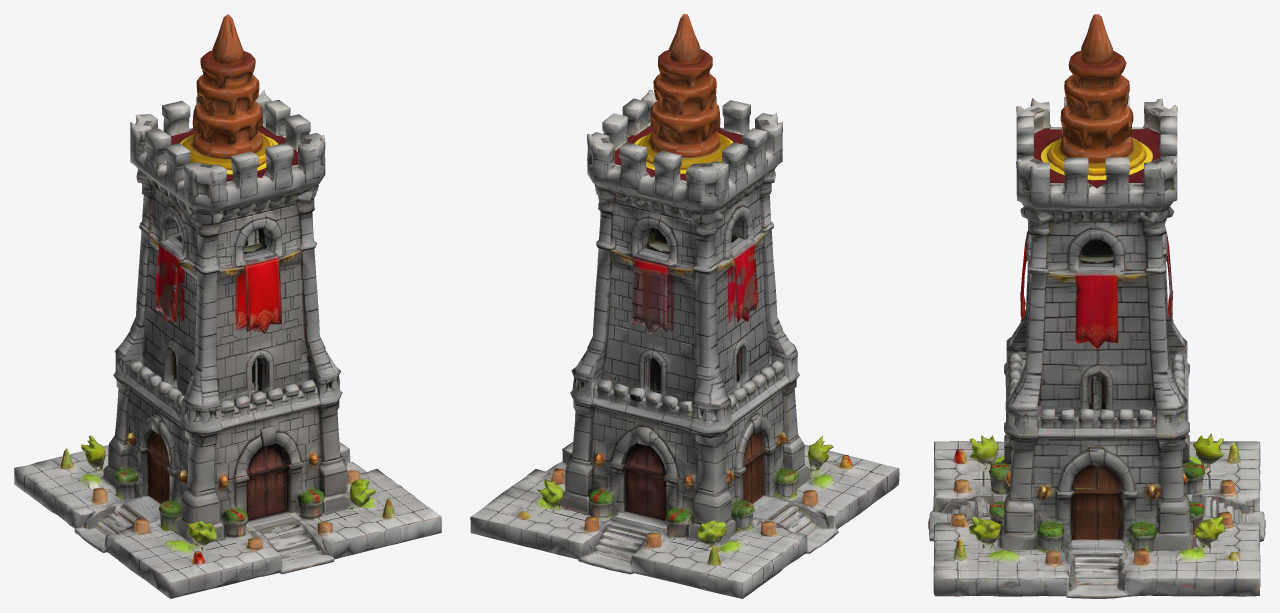
File: tower.glb
3 renders of one model, left to right at view 1: azimuth 30°, elevation 25°; view 2: azimuth 150°, elevation 25°; view 3: azimuth 270°, elevation 25°, orthographic. The views are drawn at different scales.
Parts seen in each view (by area): view 1: Mesh_0; view 2: Mesh_0; view 3: Mesh_0.
Boxes of the visible parts, x1=… form: Mesh_0: x1=14, y1=14, x2=441, y2=598; Mesh_0: x1=470, y1=14, x2=899, y2=598; Mesh_0: x1=928, y1=14, x2=1265, y2=598.
Size of the model in its own units: 1.14 by 1.91 by 1.14.
1 material, 1 textured.
